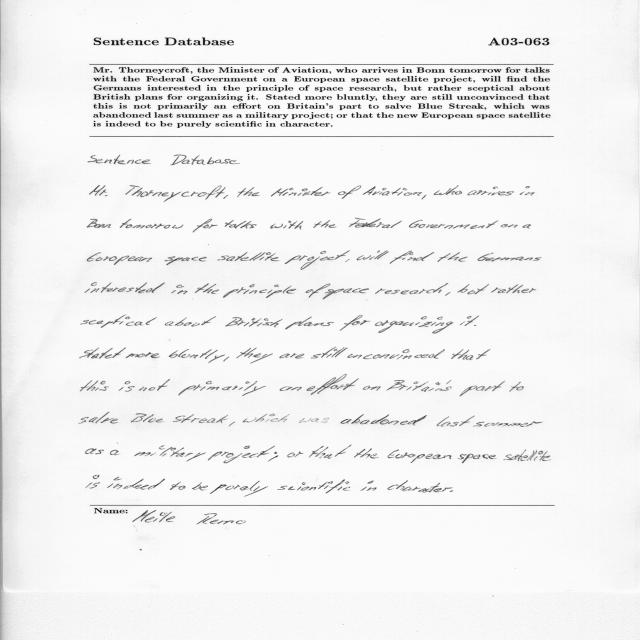word: (126, 185, 226, 202), (375, 316, 453, 334), (178, 381, 266, 396), (285, 251, 350, 270), (134, 445, 206, 462), (208, 446, 275, 463), (307, 374, 359, 395), (223, 284, 296, 298), (278, 480, 351, 494), (81, 315, 157, 328), (347, 349, 445, 359), (341, 414, 427, 425), (210, 481, 268, 497), (388, 449, 452, 463), (85, 283, 165, 294), (387, 480, 453, 493), (88, 252, 153, 265), (375, 283, 448, 294), (409, 220, 498, 229), (386, 380, 452, 392), (169, 349, 225, 363), (107, 477, 165, 490), (171, 155, 240, 165), (460, 381, 505, 396), (120, 219, 184, 229), (285, 317, 334, 330), (271, 187, 331, 197), (236, 348, 273, 364), (363, 186, 422, 196), (477, 253, 542, 262), (225, 317, 283, 327), (504, 449, 552, 461), (390, 251, 434, 264), (88, 155, 151, 164), (218, 252, 280, 261), (80, 347, 126, 359), (309, 445, 351, 458), (349, 218, 402, 228), (165, 317, 216, 327), (323, 288, 369, 299), (173, 414, 228, 423), (340, 315, 370, 331), (79, 412, 118, 424), (451, 349, 491, 360), (311, 347, 347, 359), (473, 421, 543, 427), (437, 416, 475, 427), (468, 187, 514, 196), (491, 284, 537, 293), (243, 414, 289, 423), (164, 257, 207, 266), (139, 379, 170, 391), (192, 219, 218, 233), (306, 284, 331, 298), (458, 454, 496, 463), (131, 413, 164, 423), (338, 185, 361, 199), (357, 251, 389, 261), (457, 284, 489, 294), (80, 381, 109, 392), (438, 252, 468, 262), (270, 221, 303, 230), (434, 186, 462, 196), (195, 283, 219, 294), (225, 220, 257, 228), (354, 449, 379, 459), (237, 187, 260, 197), (87, 219, 111, 228), (126, 352, 160, 358), (90, 186, 108, 197), (313, 220, 337, 228), (460, 316, 479, 326), (360, 480, 377, 491), (86, 476, 100, 489), (119, 381, 135, 392), (172, 285, 188, 295), (520, 186, 535, 196), (280, 353, 305, 359), (509, 382, 524, 392), (299, 418, 329, 423), (170, 482, 185, 491), (192, 483, 208, 491), (85, 449, 104, 455), (280, 386, 302, 391), (268, 452, 278, 462), (287, 452, 303, 458), (363, 386, 381, 391), (501, 224, 518, 228), (110, 450, 120, 455), (522, 224, 531, 229), (224, 357, 230, 362), (229, 422, 235, 427), (422, 195, 427, 200), (445, 292, 451, 296), (224, 195, 229, 199), (345, 259, 350, 262), (450, 490, 453, 492), (474, 325, 477, 326)
